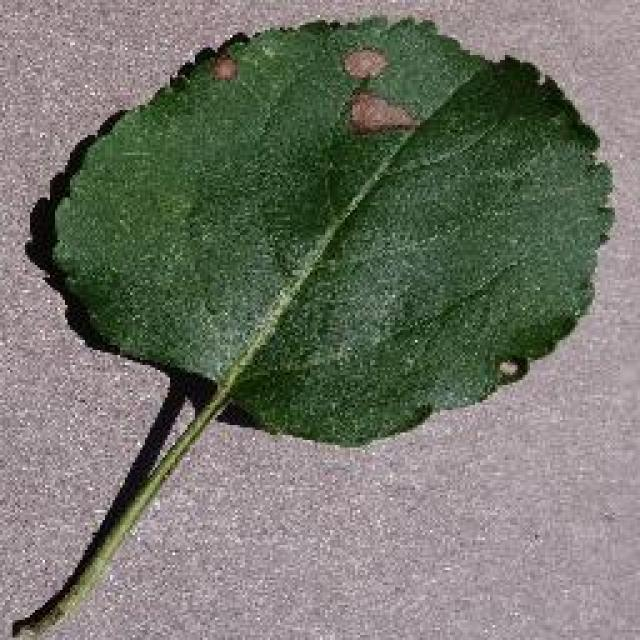Black_rot: (7, 12, 615, 638)
